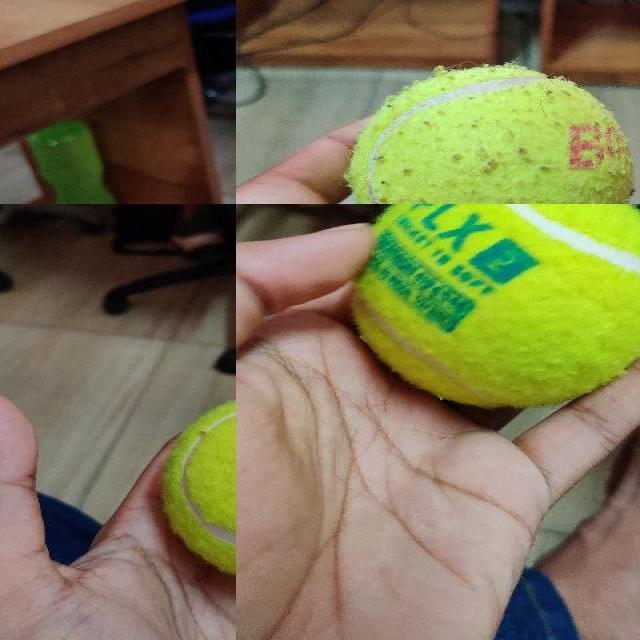tennis-ball: (349, 204, 639, 407), (348, 65, 634, 203), (163, 391, 235, 584)
